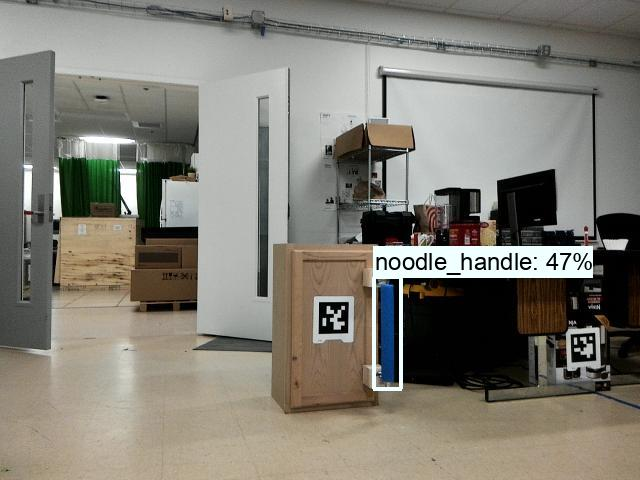noodle_handle: (372, 276, 401, 384)
